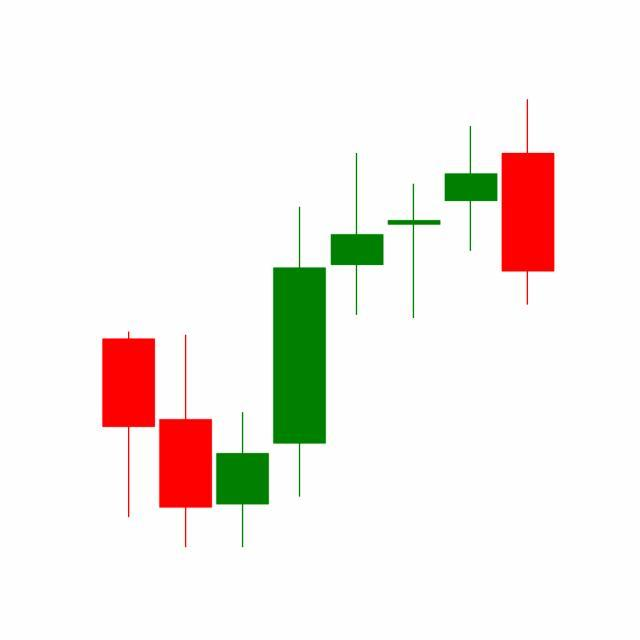Three Line Strike: (326, 99, 555, 322)
